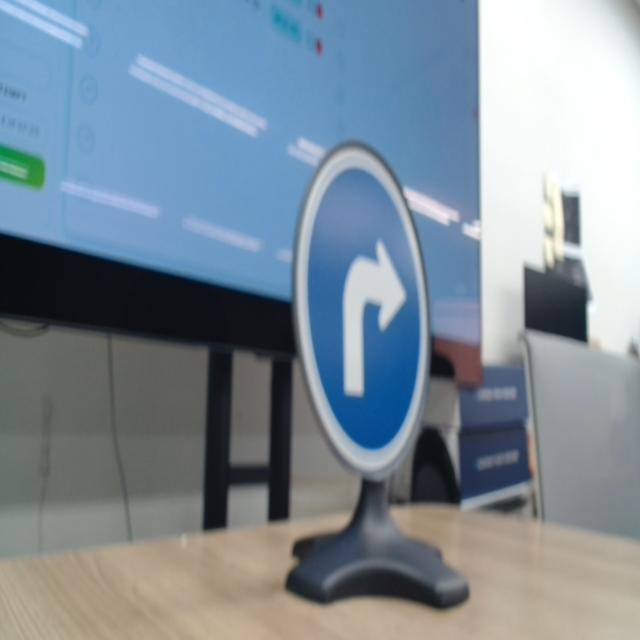right_dierection: (274, 122, 442, 478)
